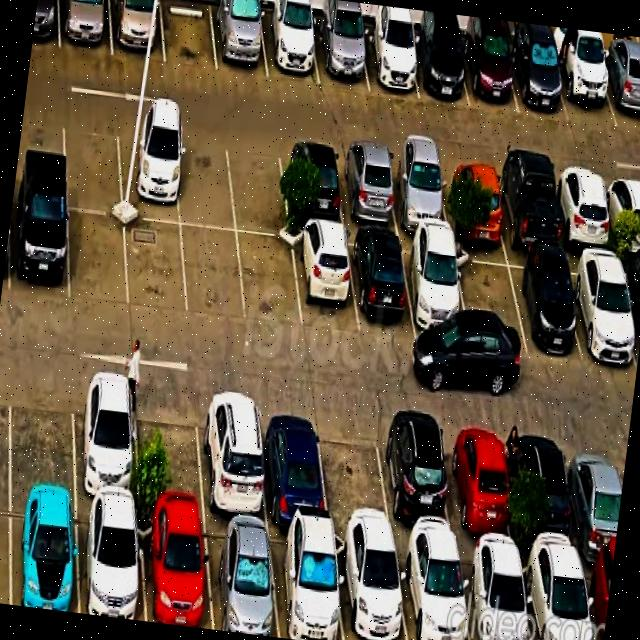empty: (318, 407, 392, 539), (135, 381, 205, 516), (10, 367, 75, 497), (454, 247, 526, 354), (226, 134, 289, 237), (125, 217, 187, 317), (181, 225, 245, 321), (175, 128, 235, 229), (237, 234, 301, 328), (63, 113, 122, 213), (68, 209, 128, 306), (160, 0, 217, 70)
occupied: (376, 414, 456, 546), (441, 419, 515, 554), (198, 390, 267, 523), (258, 398, 328, 528), (203, 518, 279, 637), (513, 426, 580, 559), (73, 372, 139, 507), (138, 510, 212, 629), (269, 526, 343, 640), (77, 501, 145, 621), (564, 254, 638, 364), (10, 495, 78, 613), (334, 533, 407, 640), (400, 238, 471, 347), (506, 252, 580, 355), (565, 433, 622, 562), (347, 231, 415, 337), (395, 544, 470, 640), (292, 226, 358, 333), (458, 548, 531, 640), (117, 120, 180, 223), (520, 554, 593, 640), (10, 197, 68, 301), (493, 164, 561, 252), (279, 141, 344, 226), (440, 159, 505, 243), (335, 146, 399, 230), (385, 152, 450, 234), (551, 47, 617, 127), (552, 170, 614, 252), (507, 38, 568, 120), (459, 33, 518, 112), (408, 31, 469, 106), (259, 9, 319, 84), (210, 1, 267, 78), (358, 25, 418, 98), (312, 19, 368, 89), (596, 51, 640, 130), (109, 0, 164, 61), (602, 174, 640, 254), (58, 0, 112, 55), (581, 560, 613, 640), (619, 259, 640, 357)
